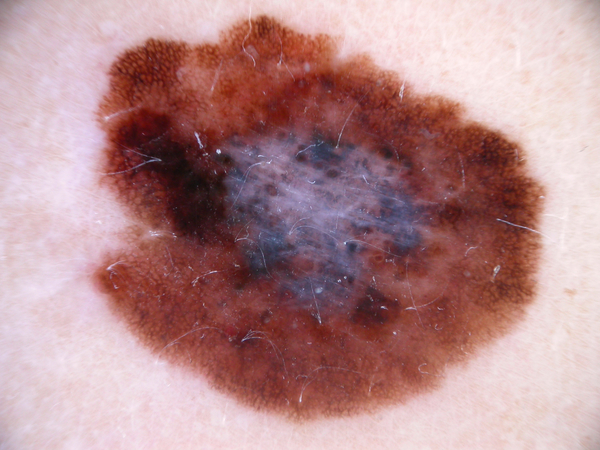Detected Lesion: (87, 12, 556, 422)
